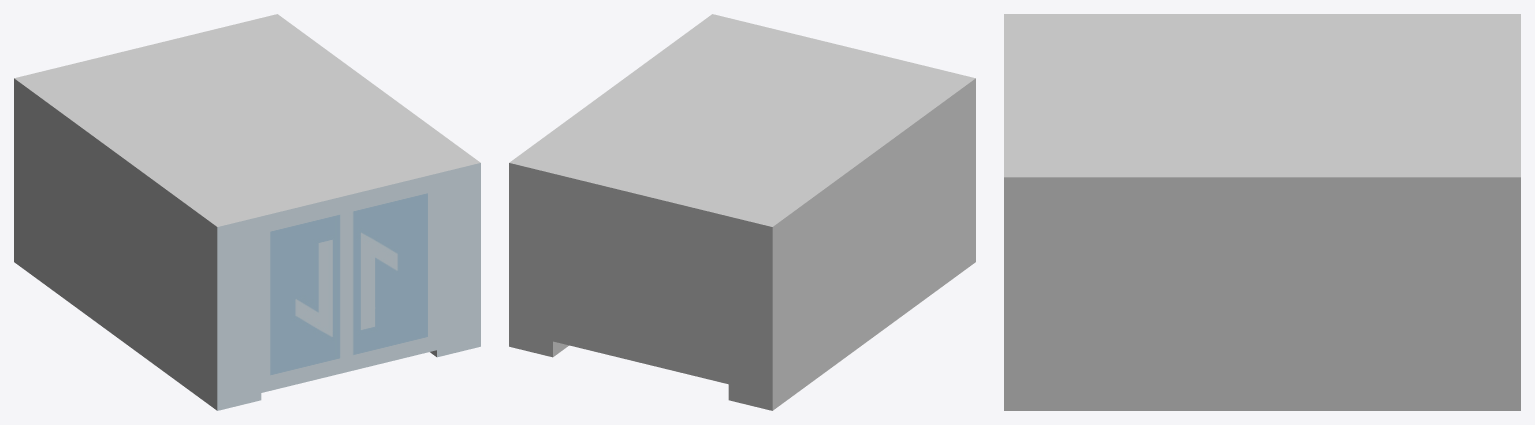
3 views of the same model, side by side, from view 1: azimuth 30°, elevation 25°; view 2: azimuth 150°, elevation 25°; view 3: azimuth 270°, elevation 25° (orthographic). The views are drawn at different scales.
Parts seen in each view (by area): view 1: 垂直电梯; view 2: 垂直电梯; view 3: 垂直电梯.
Boxes of the visible parts, x1,y1,x2,y2 form: 垂直电梯: [14, 14, 480, 410]; 垂直电梯: [509, 14, 975, 410]; 垂直电梯: [1004, 14, 1520, 410].
Size of the model in its own units: 3 by 2.03 by 4.01.
6 materials, 1 textured.
